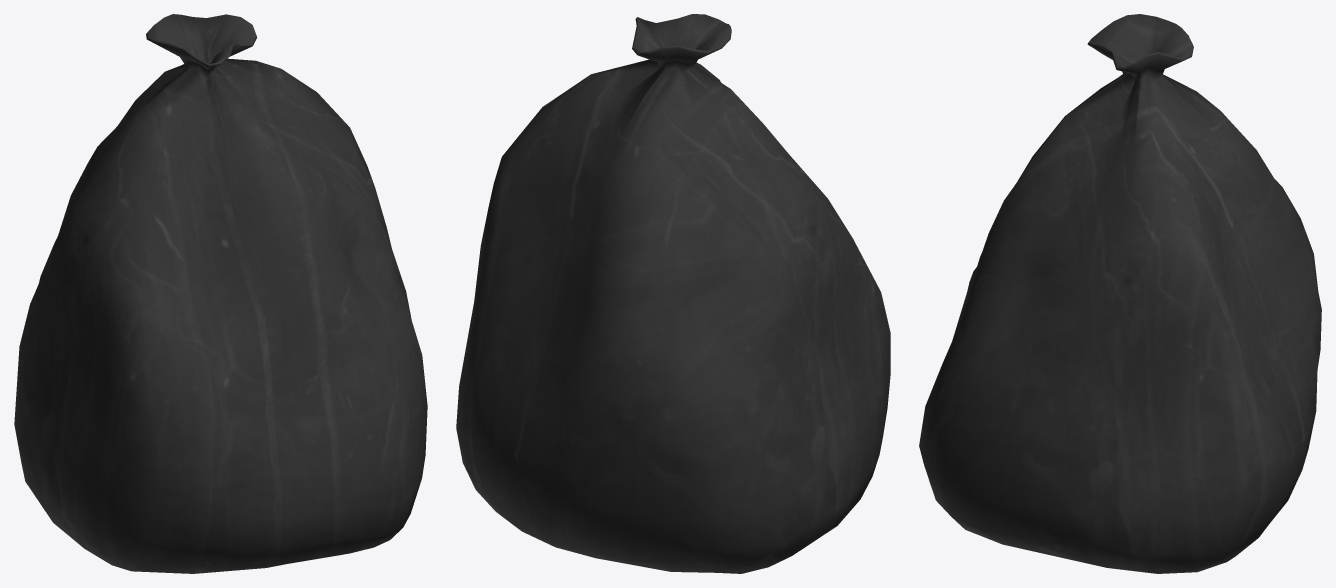
The model's file is trash_bag2.glb.
3 views of the same model, side by side, from view 1: azimuth 30°, elevation 25°; view 2: azimuth 150°, elevation 25°; view 3: azimuth 270°, elevation 25° (orthographic). The views are drawn at different scales.
Parts seen in each view (by area): view 1: trash_bag2; view 2: trash_bag2; view 3: trash_bag2.
Part boxes in pixels (x1,y1,x2,y2): trash_bag2: [14, 14, 427, 573]; trash_bag2: [456, 14, 890, 573]; trash_bag2: [919, 14, 1321, 573].
Size of the model in its own units: 0.4704 by 0.6561 by 0.4966.
Materials: 1 (1 with a texture image).
